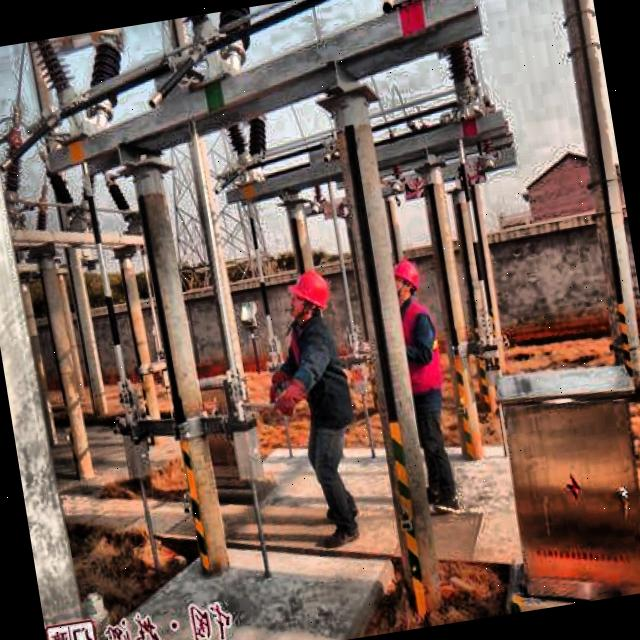helmet: (284, 266, 335, 332), (383, 254, 428, 310)
